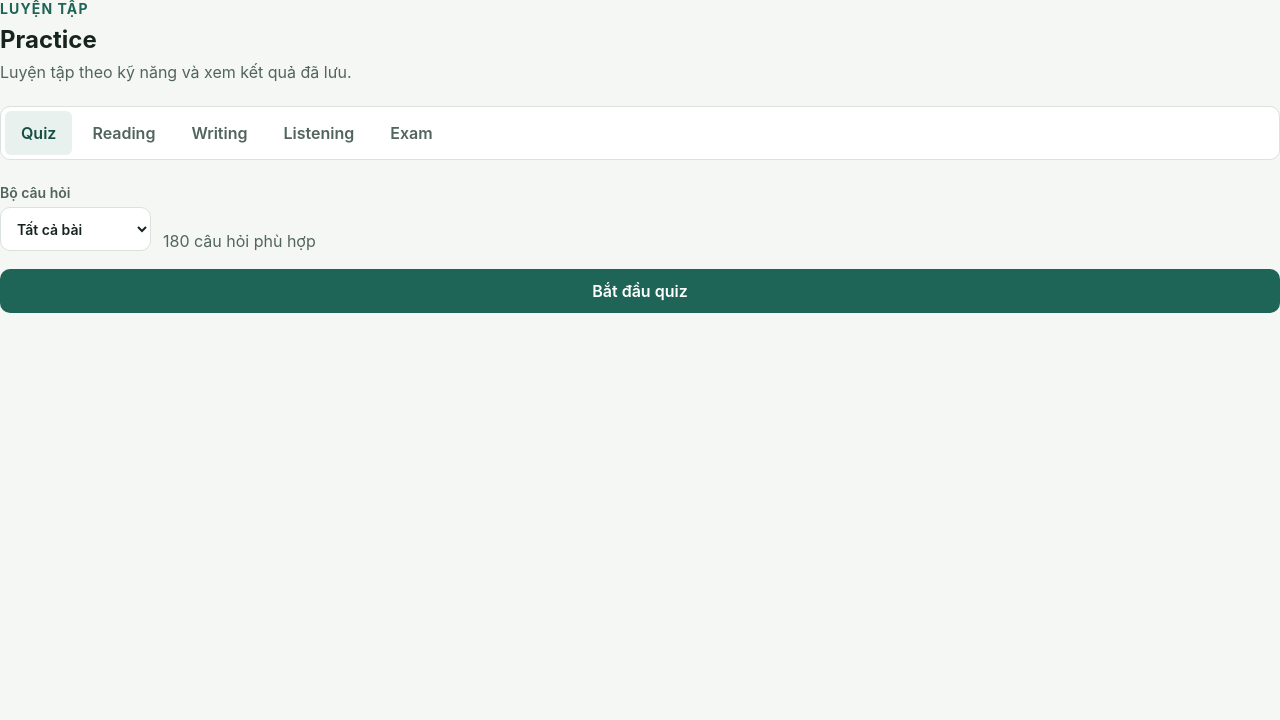
Test: PracticePage › Writing practice: selecting empty lesson shows empty state, selecting lesson 1 recovers
Step 1. Click the tab "Writing" → (219, 133), box [175, 111, 263, 155]
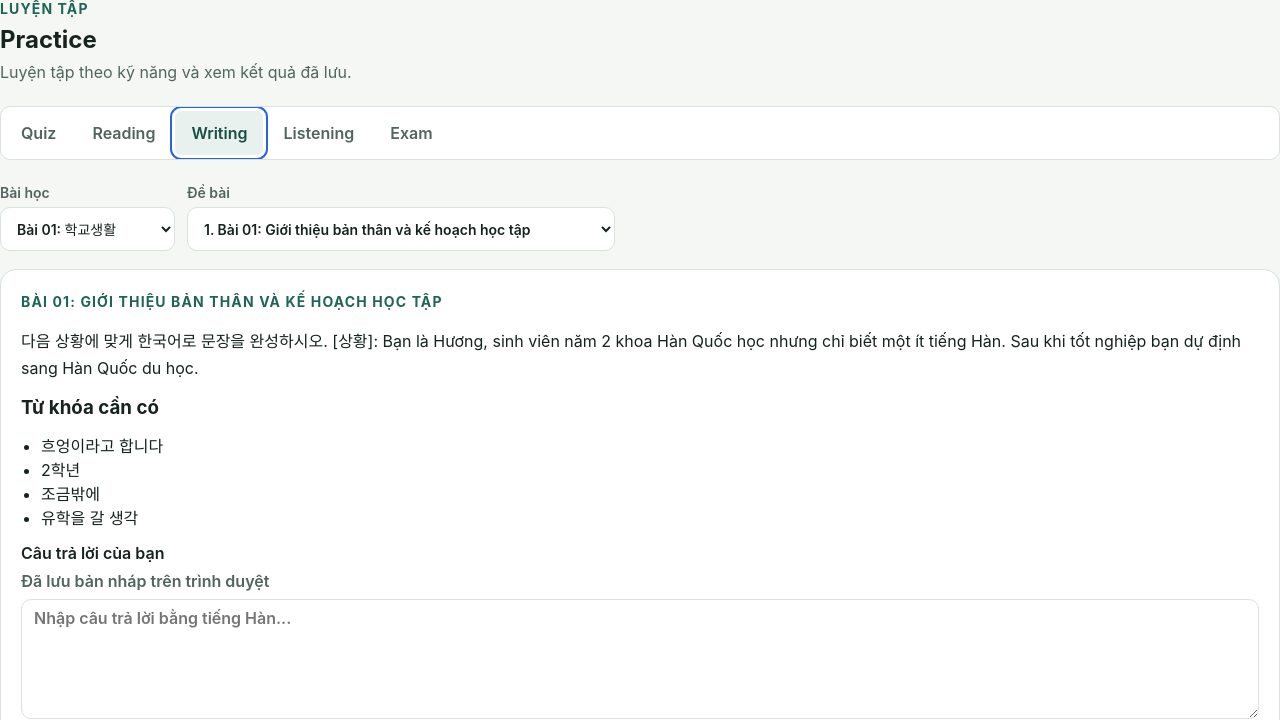
Step 2. Select "Bài 15: 예절과 규칙" in the dropdown labelled "Bài học" → (88, 229), box [0, 207, 175, 251]
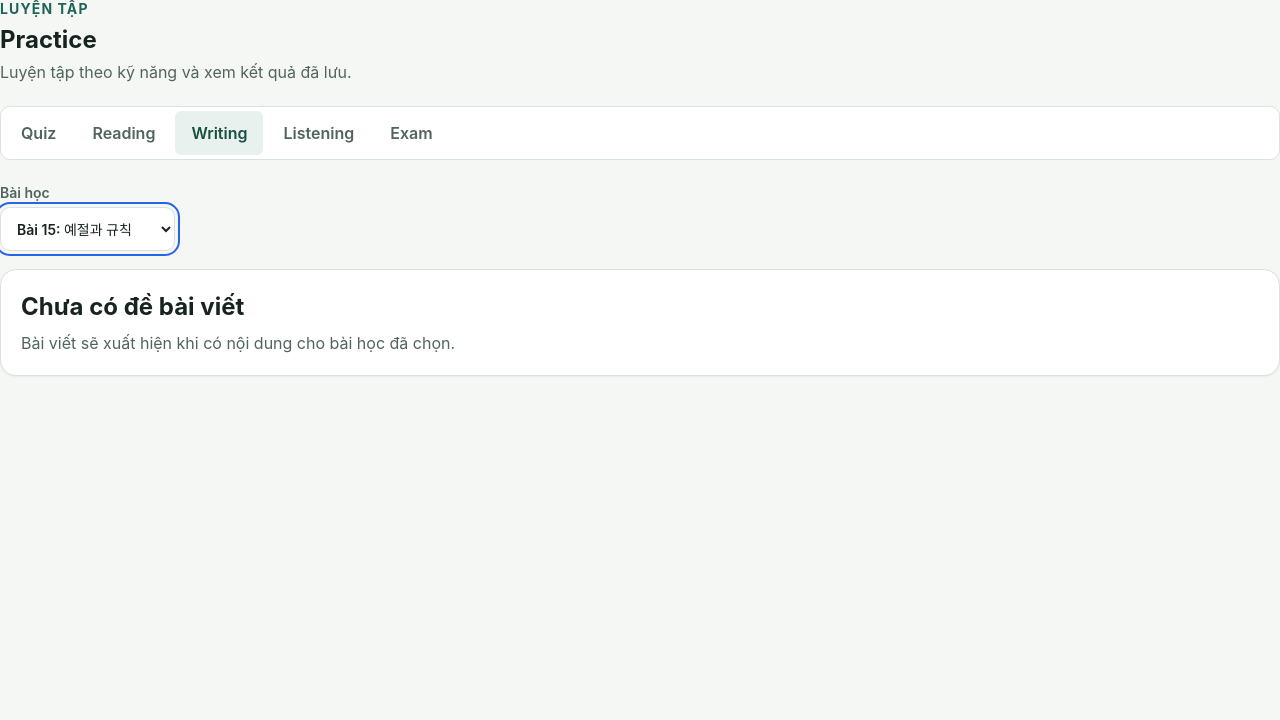
Expected: the heading "Chưa có đề bài viết" is shown, [21, 292, 244, 321]
Switch back to Lesson 1
Step 3. Select "Bài 01: 학교생활" in the dropdown labelled "Bài học" → (88, 229), box [0, 207, 175, 251]
(page scrolled)
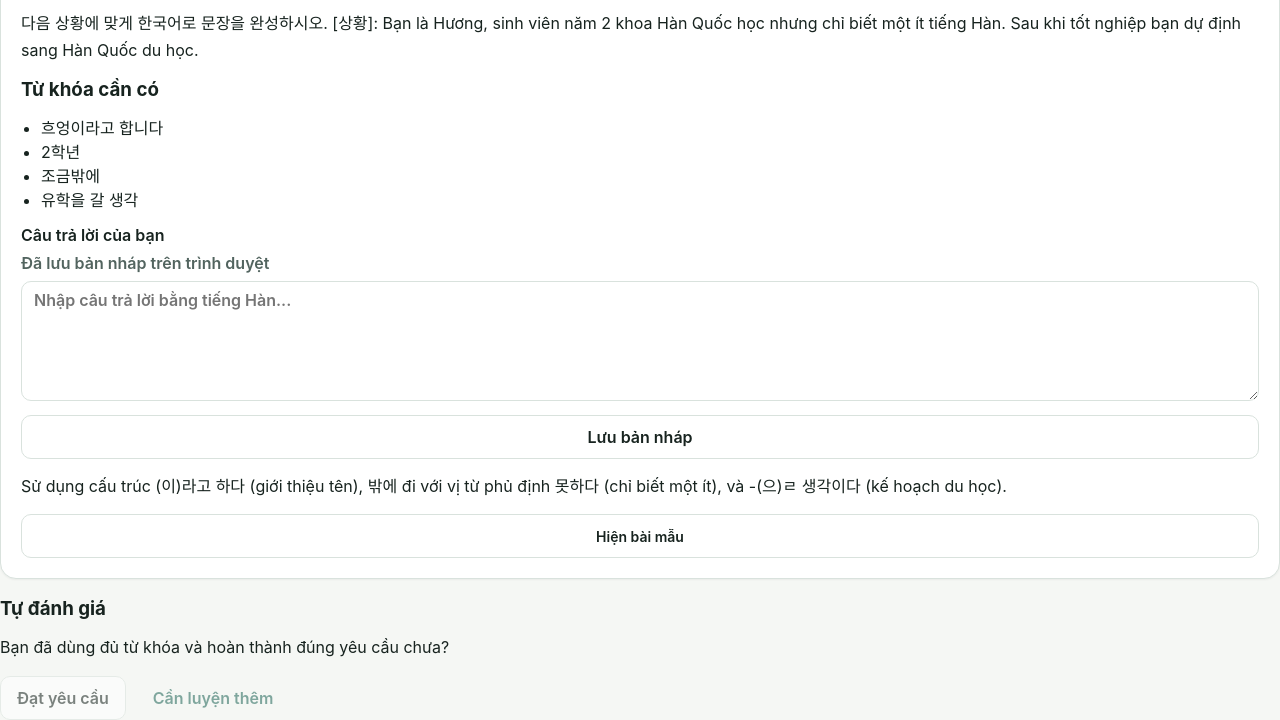
Expected: the button "Hiện bài mẫu" is shown, [21, 514, 1259, 558]
